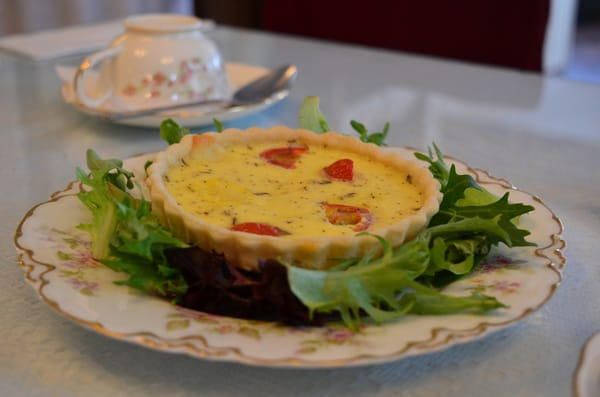soup: (18, 118, 569, 370), (106, 125, 561, 330)
